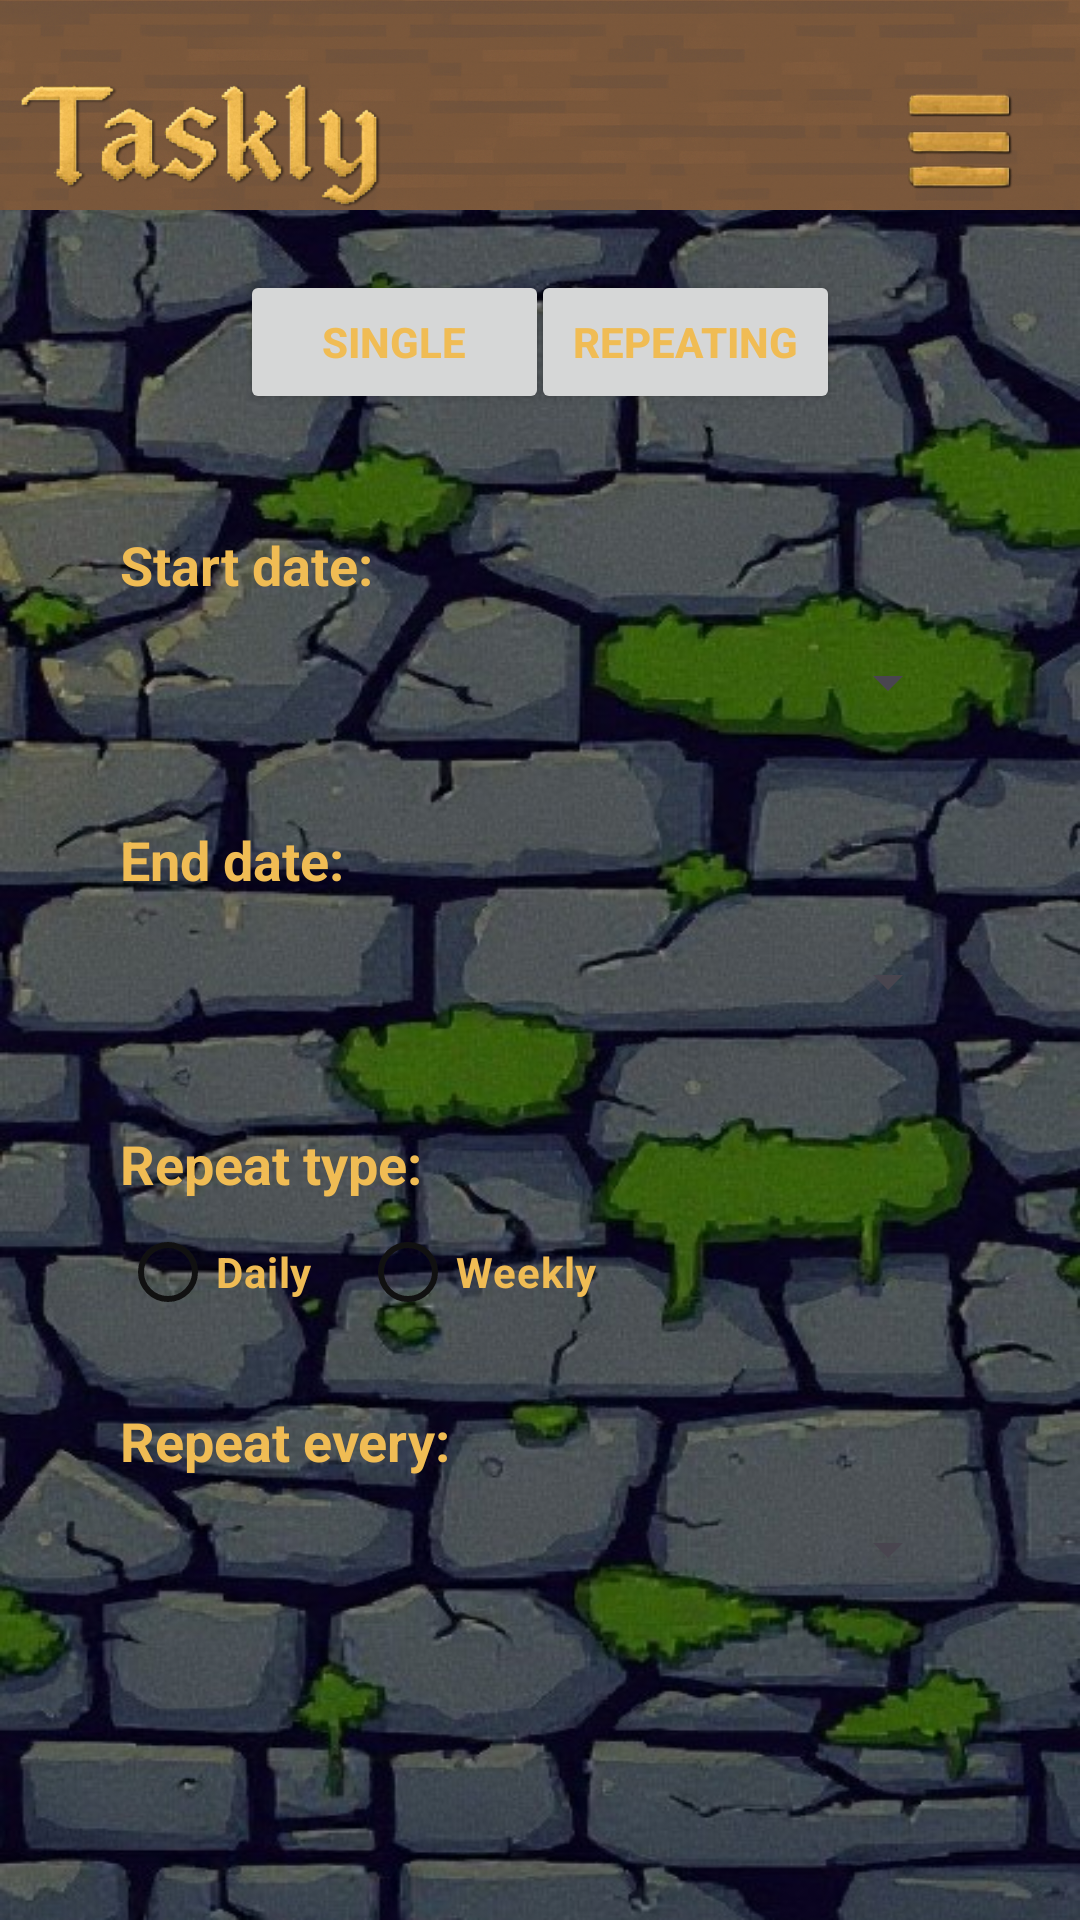

Where to tap for icons on this 1080x1920 app screen, as [x,y]:
menu: [960,141]
